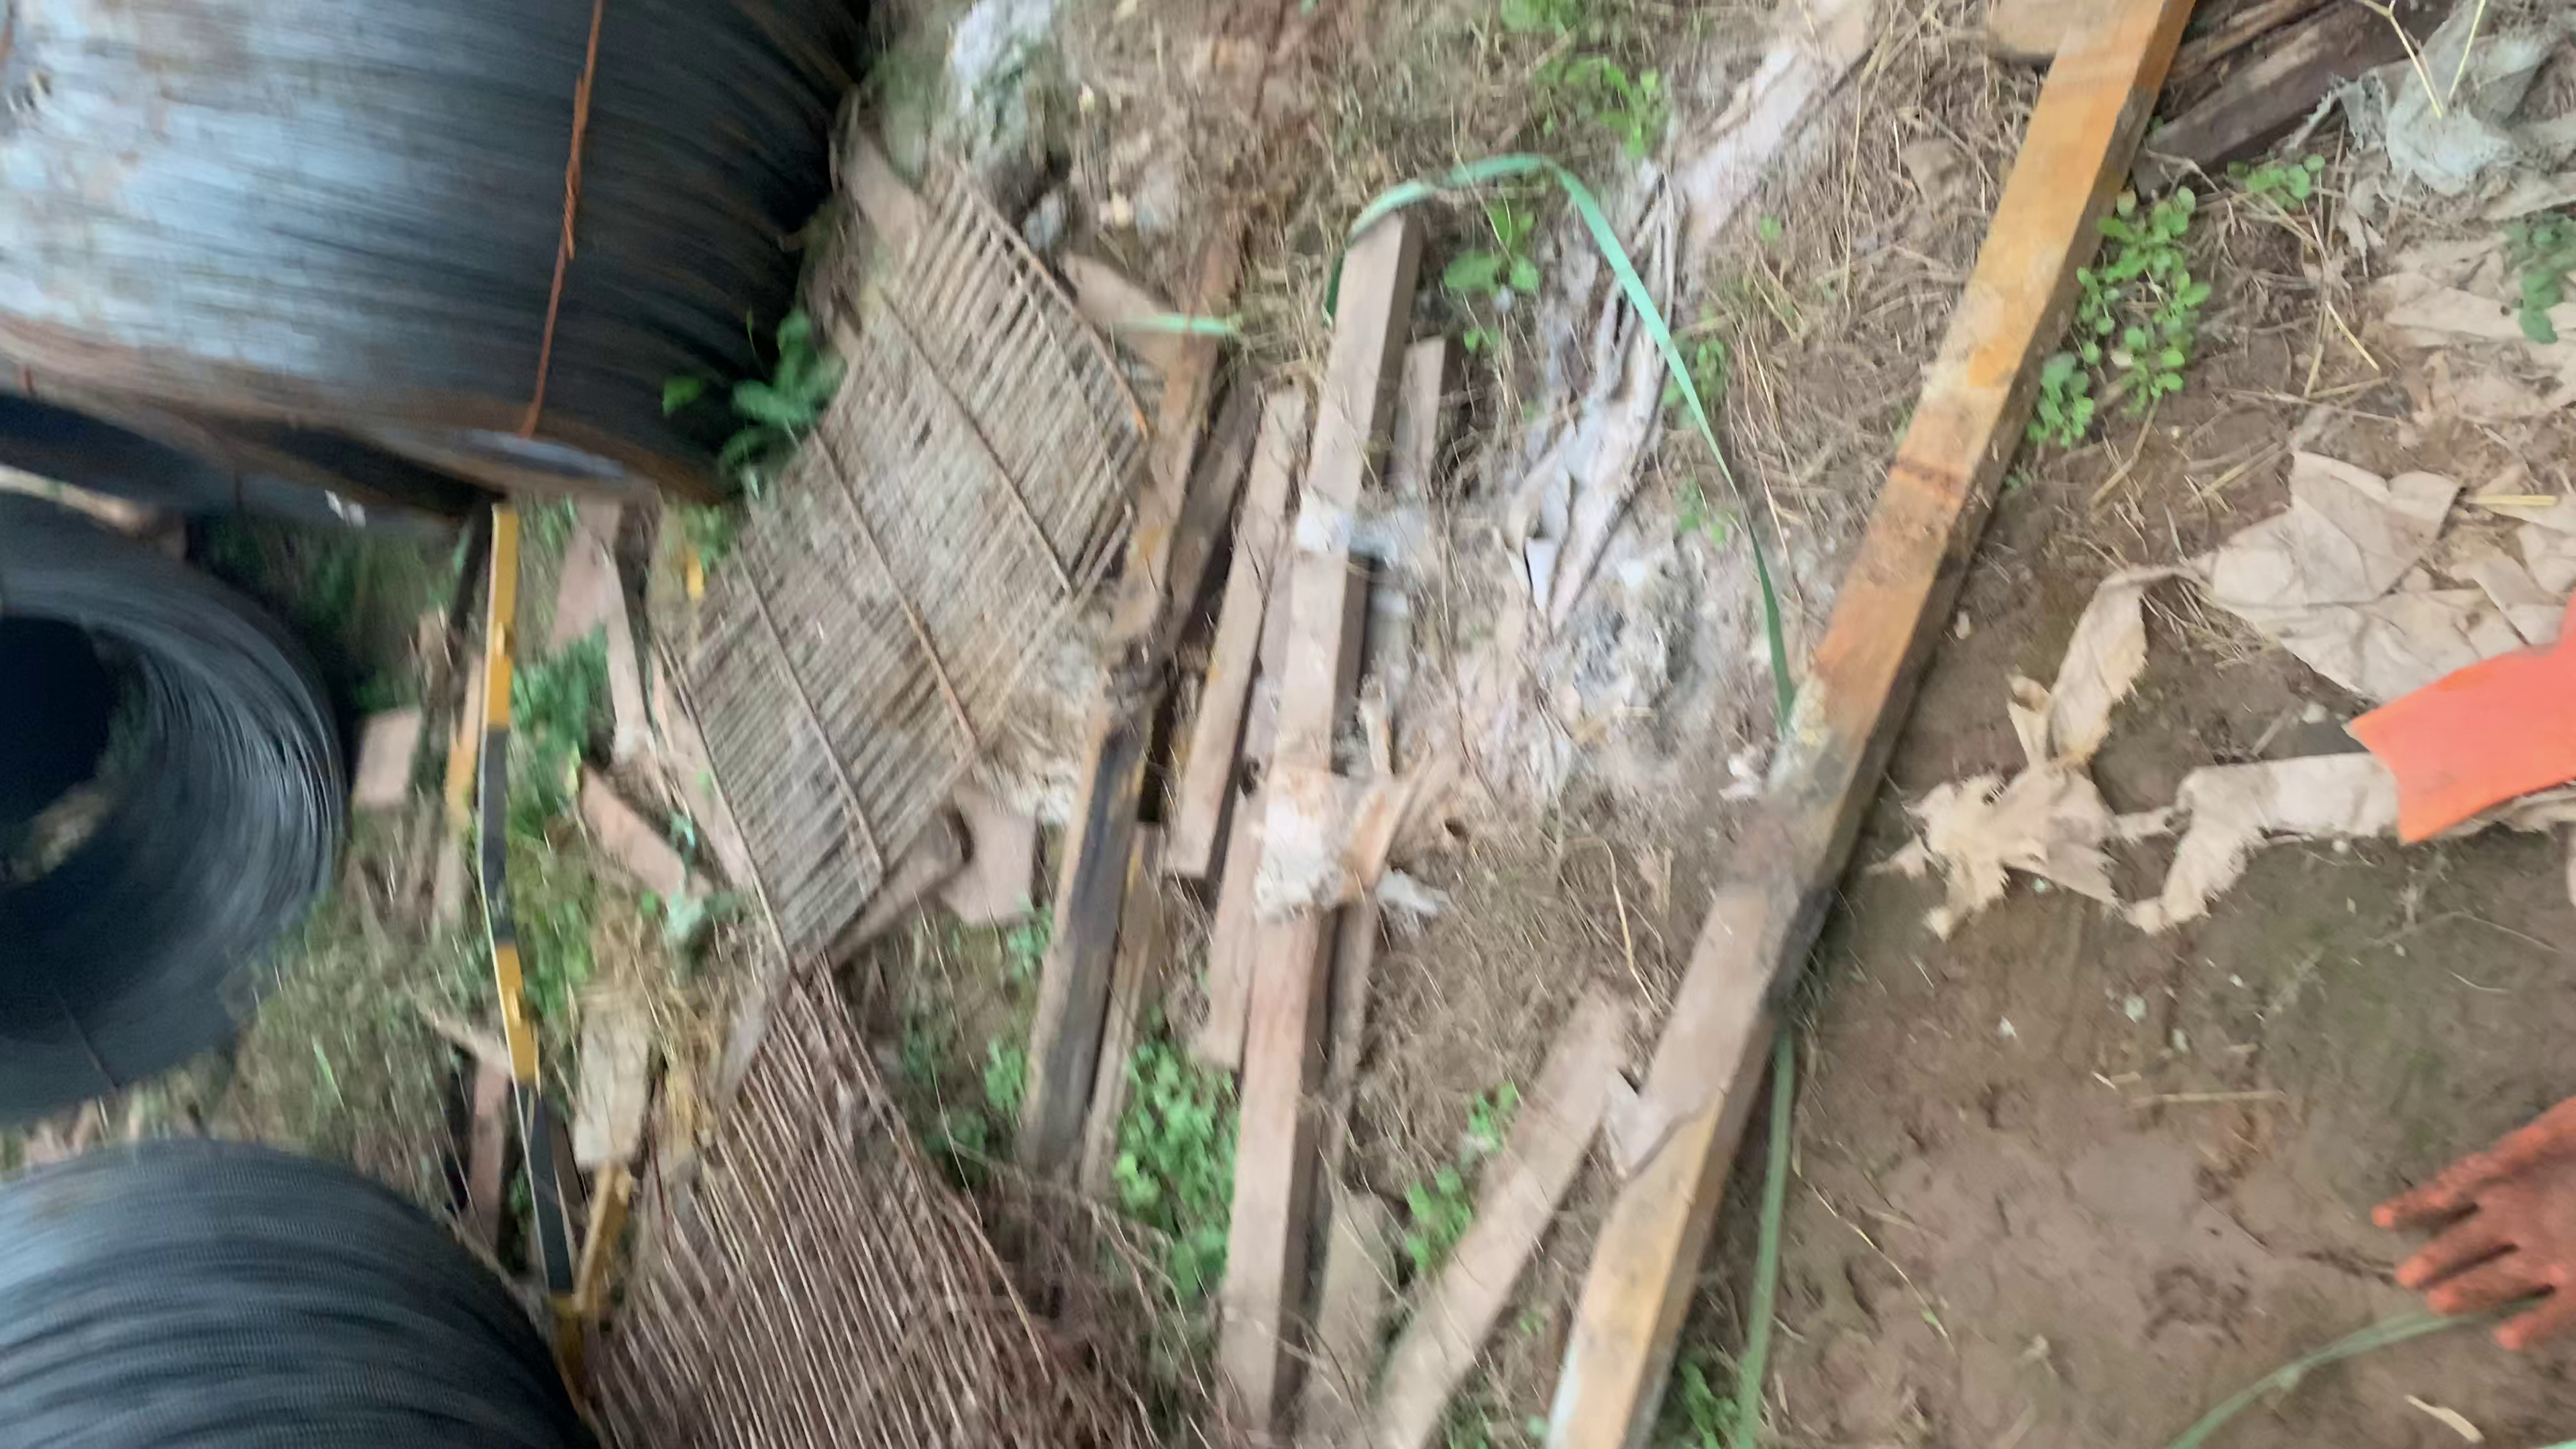coil: (0, 241, 713, 547), (0, 577, 356, 1122)
